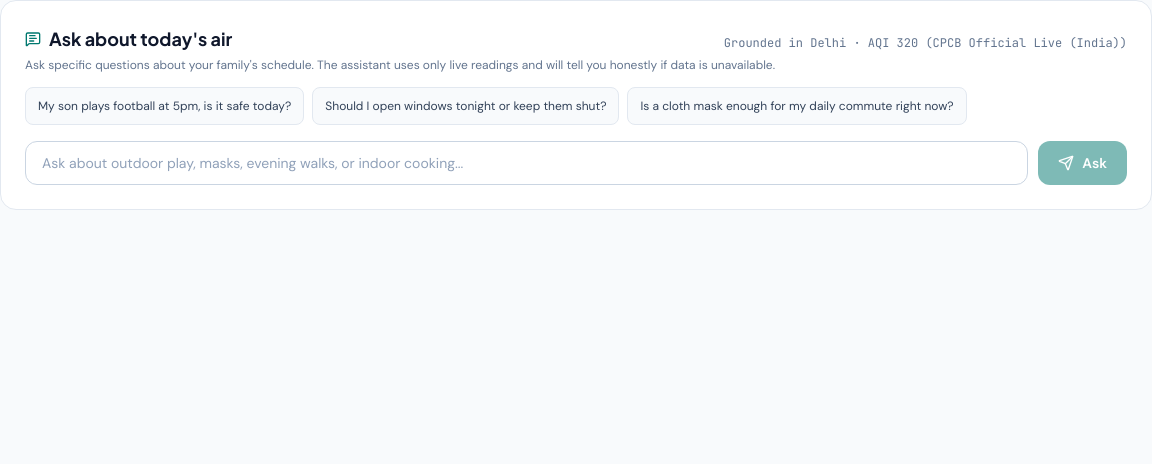
Test: HelpPage and GroundedChat Deep Coverage › covers GroundedChat asking questions and quick prompt pills
Type question and submit
Replace the text in the field with placeholder "Ask about outdoor play, masks, evening walks, or indoor cooking..." with "Can I exercise outside today?" at x=527, y=163, box [25,141,1028,185]
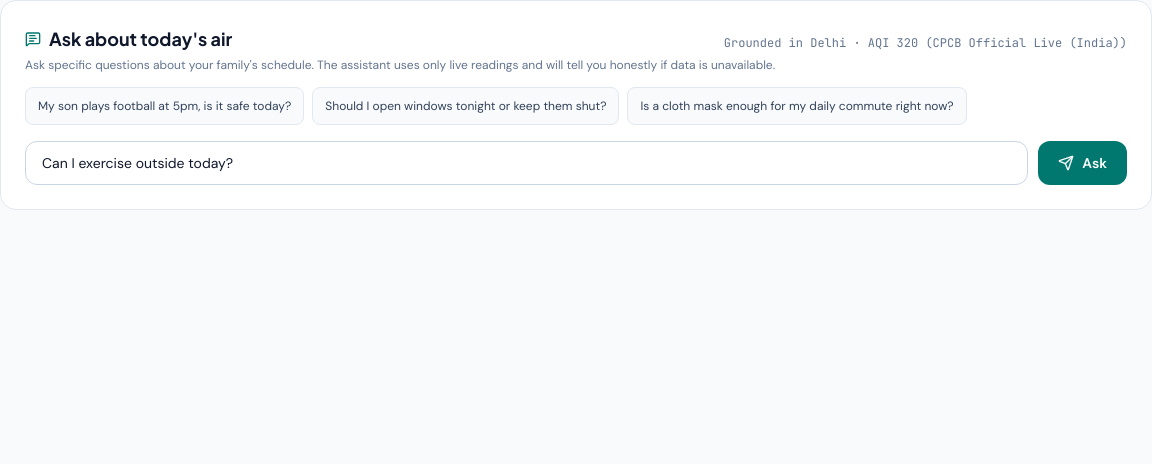
Submit the form with placeholder "Ask about outdoor play, masks, evening walks, or indoor cooking...", box [25,141,1127,185]
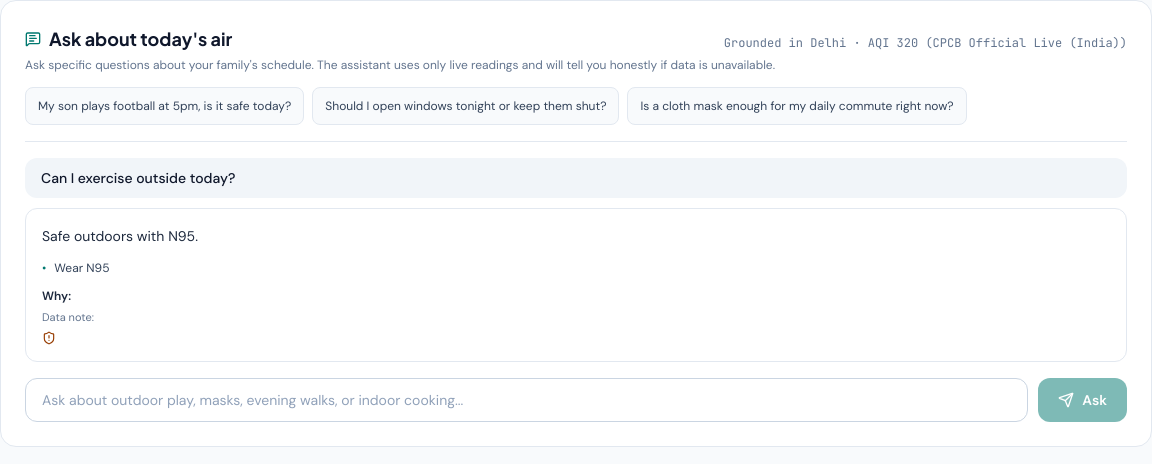
Expected: the text "Safe outdoors with N95." is shown, [42,227,198,245]
